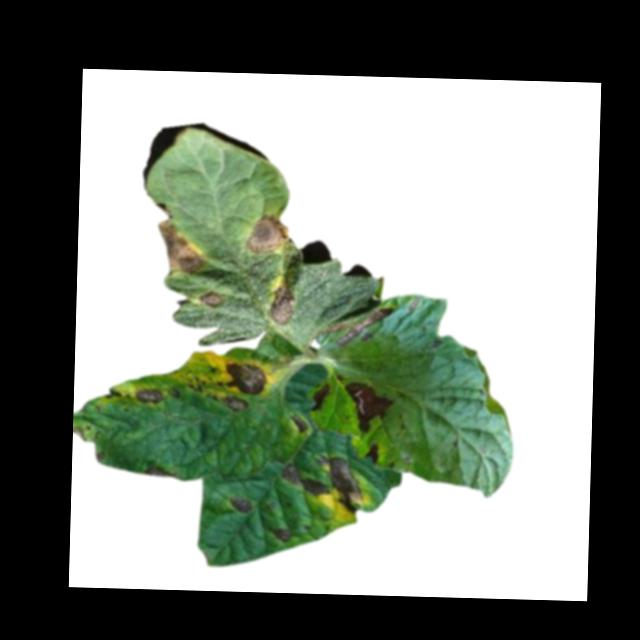Early_blight: (154, 218, 211, 275), (320, 305, 393, 347), (342, 382, 395, 437), (318, 456, 365, 512), (243, 212, 294, 256), (219, 358, 268, 397), (280, 463, 329, 499), (266, 284, 297, 327), (225, 494, 252, 517), (216, 395, 249, 413), (142, 463, 179, 479), (311, 383, 330, 413), (134, 387, 164, 406), (197, 290, 224, 309), (265, 526, 291, 544), (366, 443, 380, 464), (104, 387, 124, 400)
